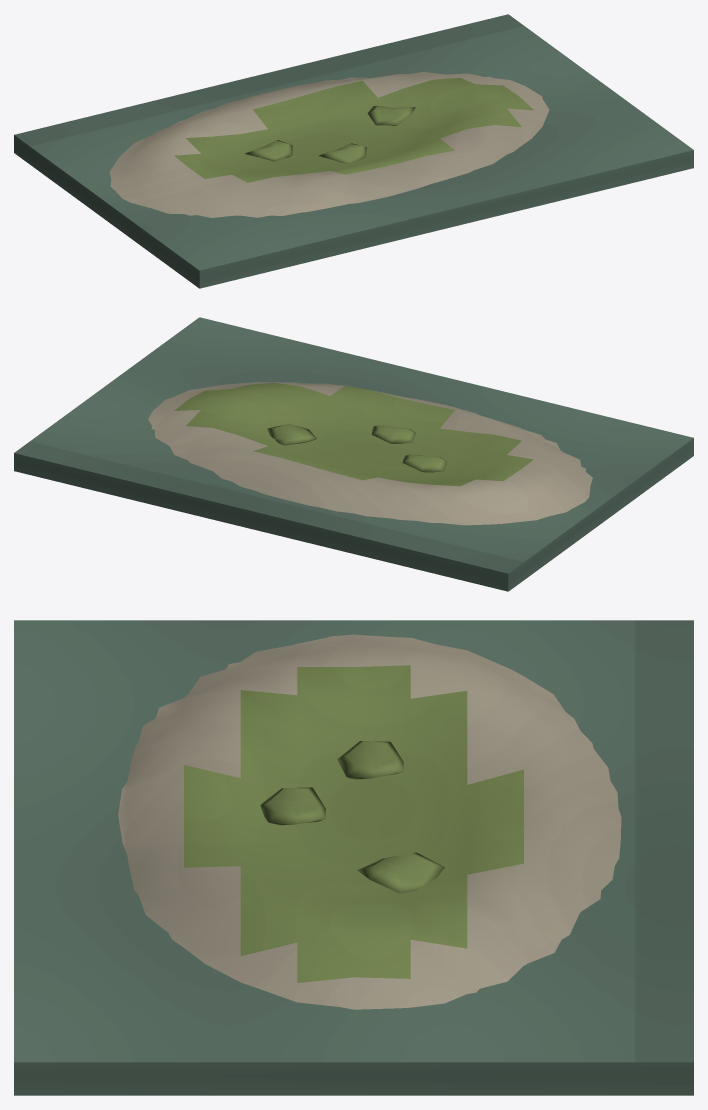
Rendered from ashmore.glb.
The picture shows the model from 3 angles, top to bottom: view 1: azimuth 30°, elevation 25°; view 2: azimuth 150°, elevation 25°; view 3: azimuth 270°, elevation 25°; orthographic projection. The views are drawn at different scales.
Visible parts, largest first — view 1: ashmore; view 2: ashmore; view 3: ashmore.
Boxes of the visible parts, x1,y1,x2,y2 form: ashmore: (14, 14, 693, 288); ashmore: (14, 317, 693, 591); ashmore: (14, 620, 693, 1095).
Bounding box in the file's own units: 6.82 × 0.4502 × 4.43.
1 material, 1 textured.
